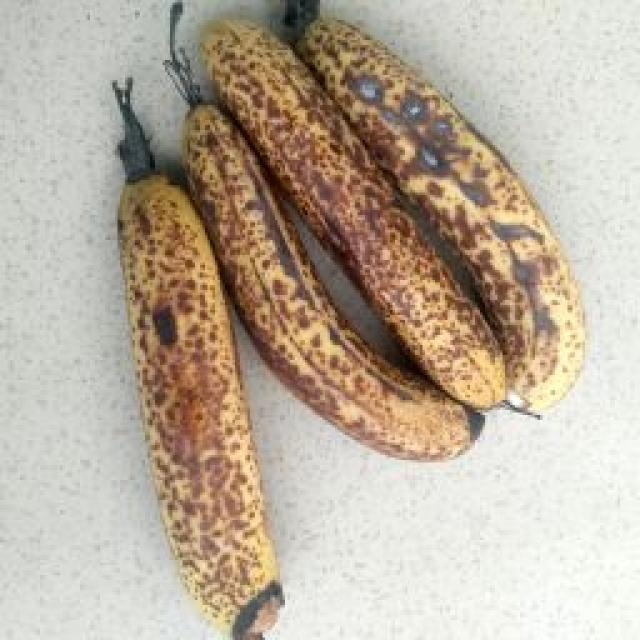banana: (67, 11, 577, 510)
